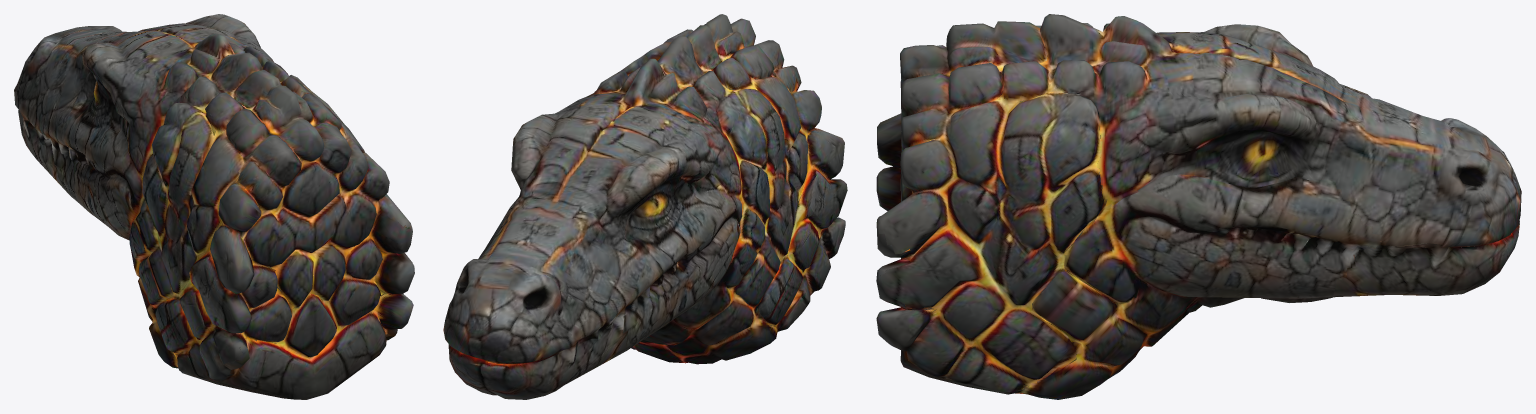
Rendered from komodo-agung.glb.
3 renders of one model, left to right at view 1: azimuth 30°, elevation 25°; view 2: azimuth 150°, elevation 25°; view 3: azimuth 270°, elevation 25°, orthographic. The views are drawn at different scales.
Visible parts, largest first — view 1: komodo-agung; view 2: komodo-agung; view 3: komodo-agung.
Part boxes in pixels (box(x1,y1,x2,y2)): komodo-agung: box(14, 14, 414, 399); komodo-agung: box(443, 14, 847, 399); komodo-agung: box(876, 14, 1521, 399).
Size of the model in its own units: 0.6035 by 1 by 1.56.
1 material, 1 textured.
